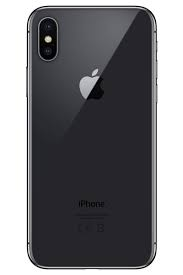iphone: (25, 1, 160, 270)
iphone10: (26, 2, 161, 272)
